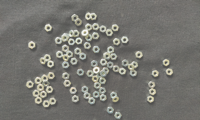nut: (26, 81, 34, 89), (28, 42, 36, 50), (45, 24, 53, 32), (35, 97, 43, 105), (49, 98, 57, 106), (56, 51, 64, 59), (55, 37, 63, 45), (75, 18, 83, 26), (84, 42, 92, 50), (85, 34, 93, 42), (93, 46, 101, 54), (100, 70, 108, 78), (113, 38, 121, 46), (119, 68, 127, 76), (136, 51, 144, 59), (147, 96, 155, 104), (33, 90, 40, 98), (37, 84, 44, 92), (35, 77, 42, 85), (40, 91, 47, 99), (46, 87, 54, 94), (47, 61, 54, 69), (72, 96, 80, 103), (62, 73, 70, 80), (62, 62, 70, 69), (61, 35, 69, 42), (62, 45, 69, 53), (63, 54, 70, 62), (72, 14, 79, 22), (75, 48, 82, 56), (77, 69, 85, 76), (82, 86, 89, 94), (86, 24, 93, 32), (85, 13, 92, 21), (93, 23, 100, 31), (92, 33, 100, 40), (106, 30, 114, 37), (112, 24, 119, 32), (91, 60, 98, 68), (93, 91, 100, 99), (107, 107, 115, 114), (94, 82, 101, 90), (92, 76, 100, 83), (99, 78, 107, 85), (104, 53, 112, 60), (128, 64, 136, 71), (130, 70, 138, 77), (149, 89, 157, 96), (148, 82, 156, 89), (152, 71, 160, 78), (166, 69, 174, 76), (163, 59, 170, 67), (43, 101, 50, 108), (43, 80, 50, 87), (48, 73, 55, 80), (40, 58, 47, 65), (44, 55, 51, 62), (70, 88, 77, 95), (63, 33, 70, 40), (66, 51, 73, 58), (68, 39, 75, 46), (76, 38, 83, 45), (71, 58, 78, 65), (80, 53, 87, 60), (84, 93, 91, 100), (89, 98, 96, 105), (82, 30, 89, 37), (100, 26, 107, 33), (87, 71, 94, 78), (115, 113, 122, 120), (100, 95, 107, 102), (99, 88, 106, 95), (112, 96, 119, 103), (111, 92, 118, 99), (93, 67, 100, 74), (103, 68, 110, 75), (101, 59, 108, 66), (107, 62, 114, 69), (108, 47, 115, 54), (122, 37, 129, 44), (113, 66, 120, 73), (122, 60, 129, 67), (132, 62, 139, 69), (64, 81, 72, 87), (69, 30, 75, 38), (74, 30, 80, 38), (91, 13, 97, 21), (42, 75, 48, 82), (97, 72, 104, 78), (111, 54, 118, 60), (104, 52, 109, 59)
